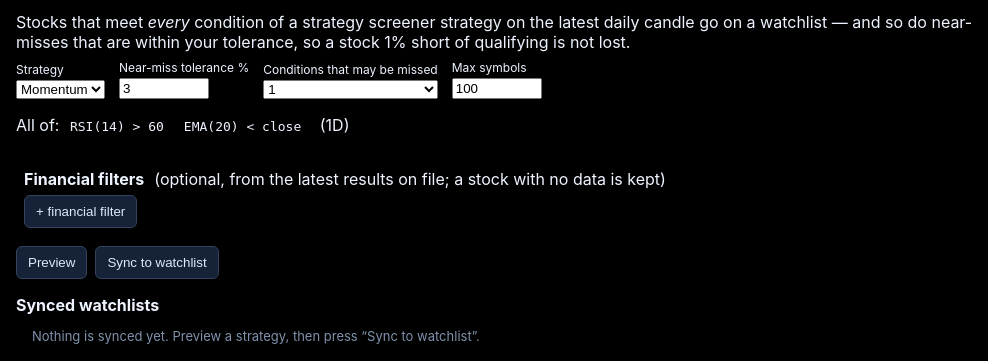
Test: StrategiesView › lists the screener strategies and spells out the selected strategy’s conditions
The width and height of the screenshot is (988, 361).
Expected: the text "RSI(14) > 60" is shown, [64, 118, 170, 135]
Expected: the text "EMA(20) < close" is shown, [178, 118, 307, 135]
Select "Breakout" in the dropdown labelled "Strategy" at coordinates (60, 90), box [16, 80, 105, 99]
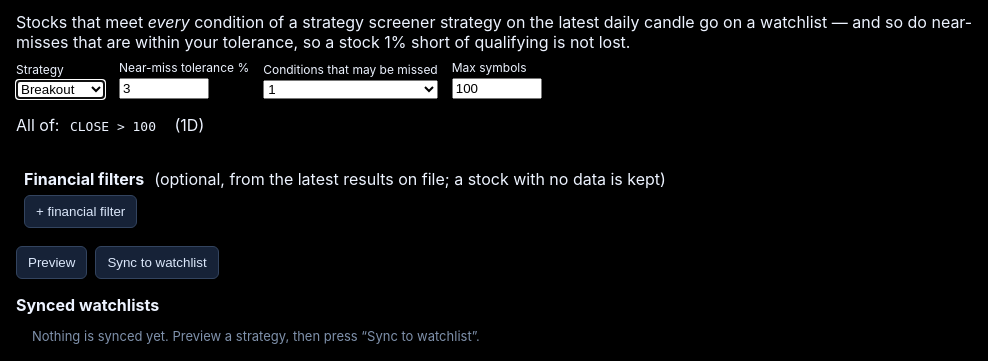
Expected: the text "CLOSE > 100" is shown, [64, 118, 162, 135]
